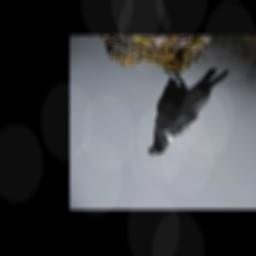Crow: (147, 63, 231, 159)
